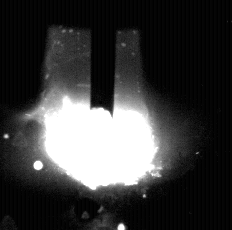arame: (91, 0, 116, 119)
poca: (44, 0, 157, 230)
